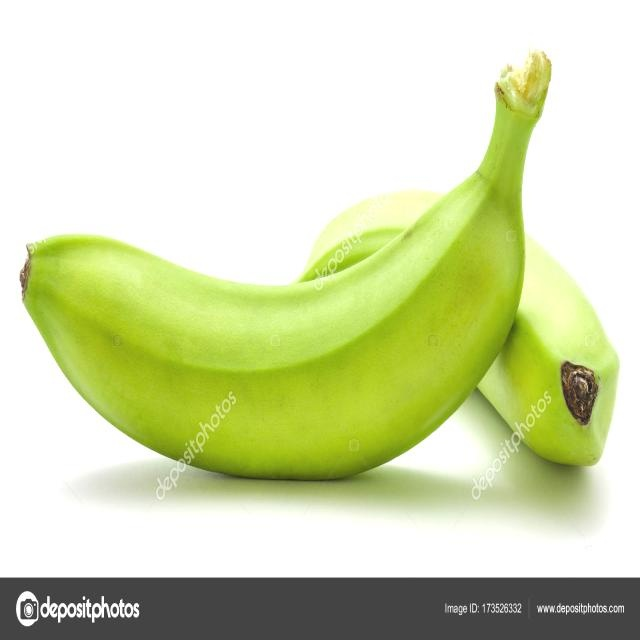agrume: (18, 49, 550, 483)
